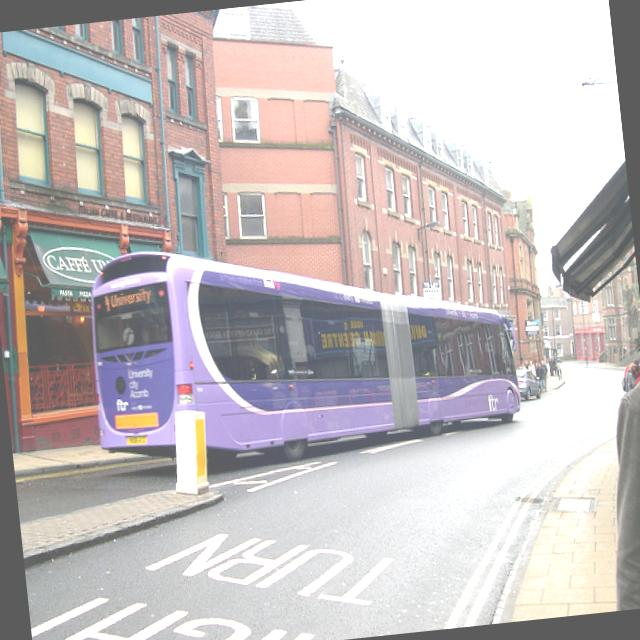Vehicle: (74, 212, 526, 480), (516, 368, 542, 401)
